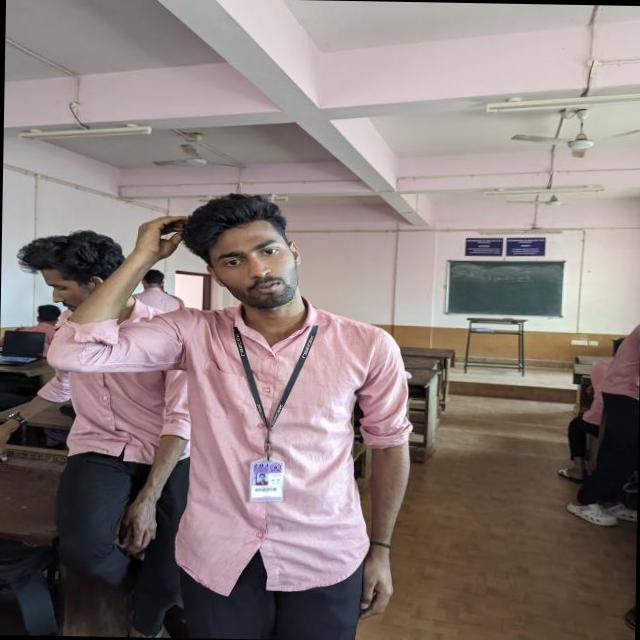id_card: (230, 322, 316, 500)
